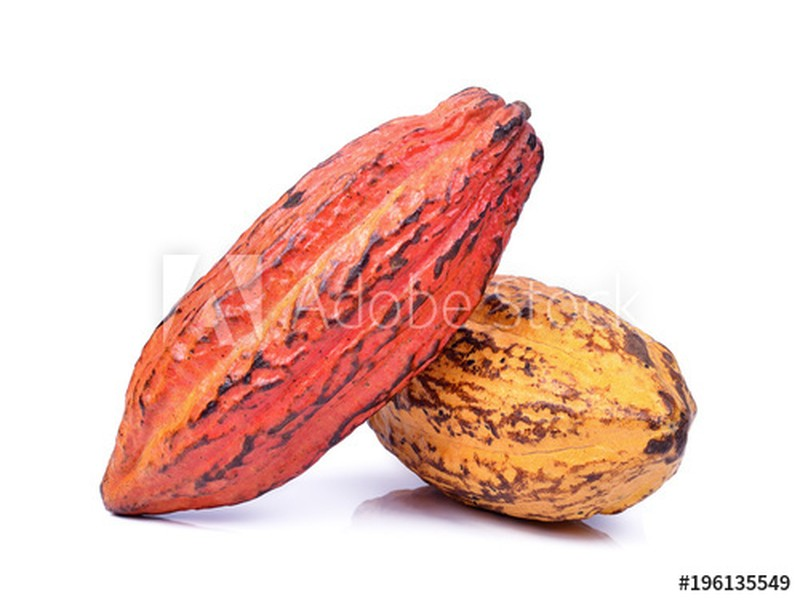Cacaopod: (97, 81, 549, 527)
